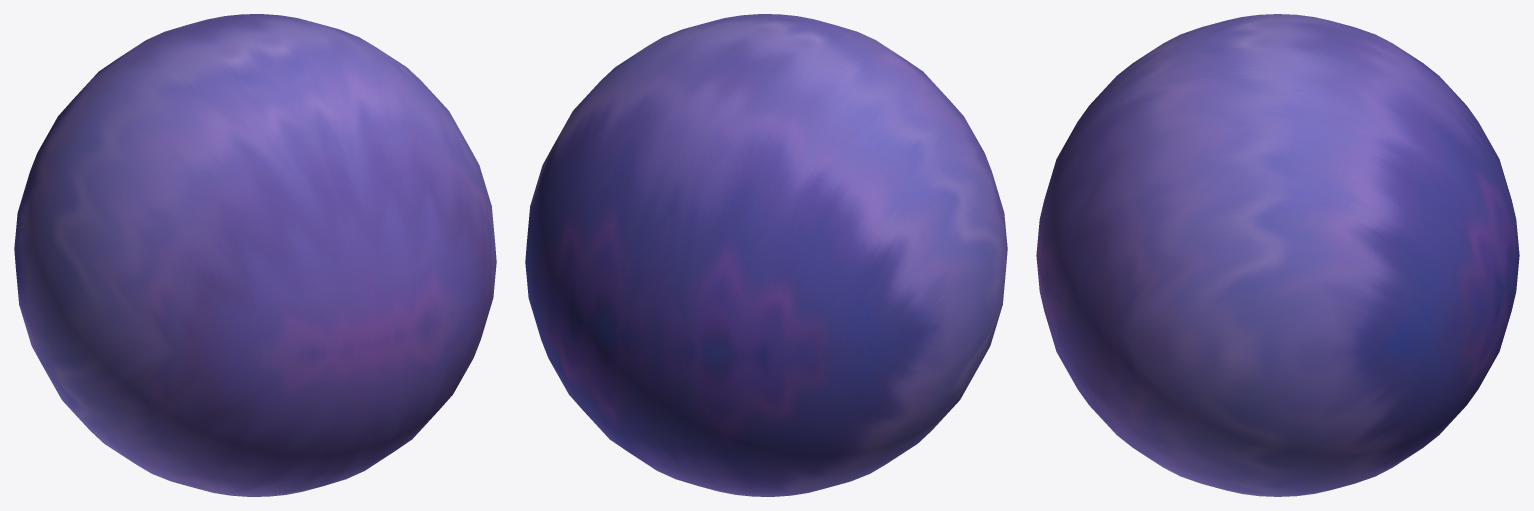
Rendered from Uknown_planet_2.FBX.
3 renders of one model, left to right at view 1: azimuth 30°, elevation 25°; view 2: azimuth 150°, elevation 25°; view 3: azimuth 270°, elevation 25°, orthographic.
Visible parts, largest first — view 1: Uknown_planet_2; view 2: Uknown_planet_2; view 3: Uknown_planet_2.
Boxes of the visible parts, x1=… form: Uknown_planet_2: x1=14, y1=14, x2=496, y2=496; Uknown_planet_2: x1=525, y1=14, x2=1007, y2=496; Uknown_planet_2: x1=1036, y1=14, x2=1519, y2=496.
Bounding box in the file's own units: 69.73 × 69.73 × 69.73.
